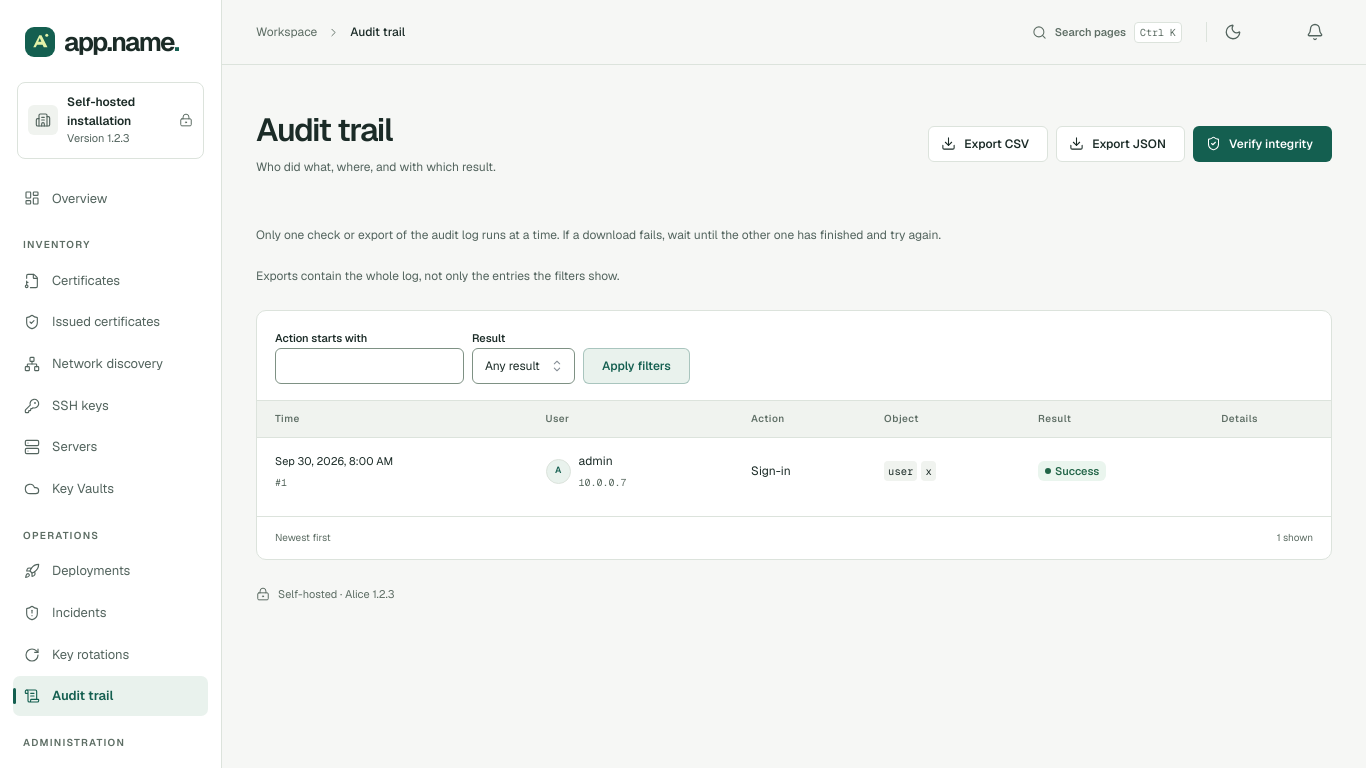
Test: AuditPage › reports an intact chain and offers exports
Click the button "Verify integrity" at (1262, 144), box [1193, 126, 1332, 162]
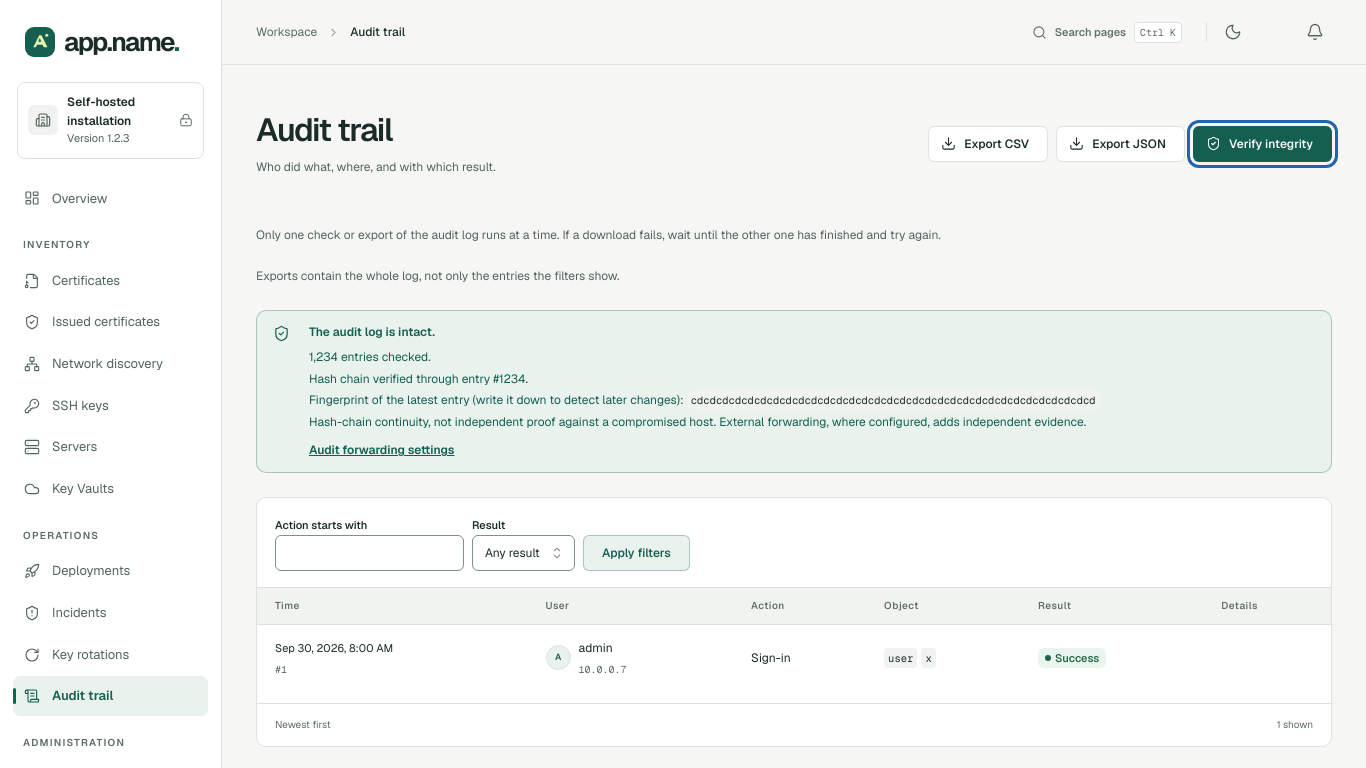
Expected: the message shows "The audit log is intact.", [309, 324, 435, 340]
Expected: the message shows "1,234 entries checked.", [309, 349, 431, 365]
